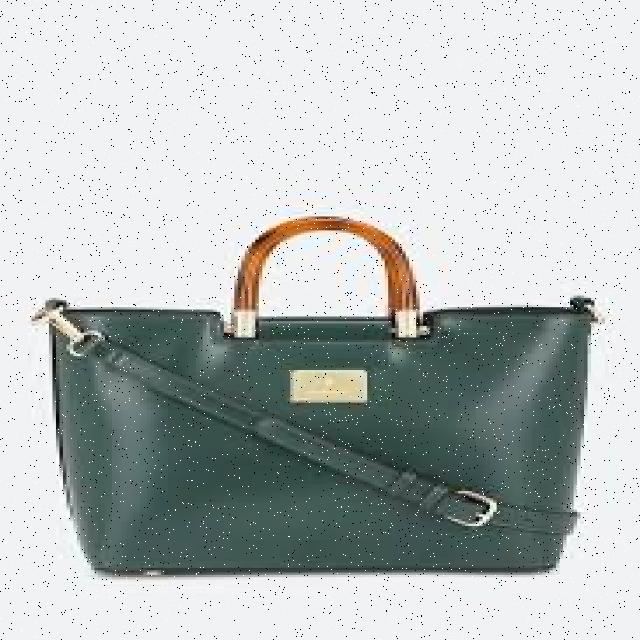handbag: (28, 214, 598, 575)
